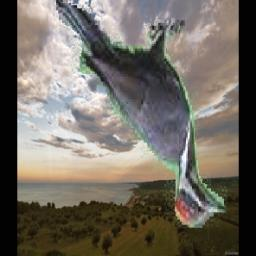Woodpecker: (53, 0, 227, 228)
